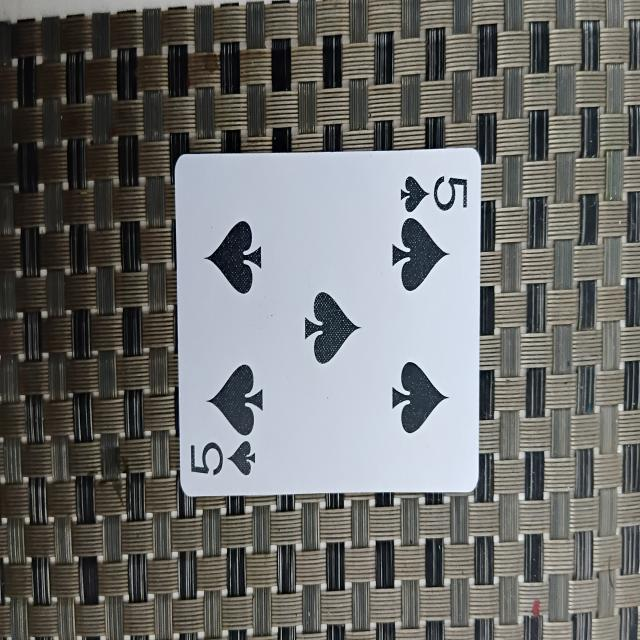5S: (174, 157, 475, 493)
